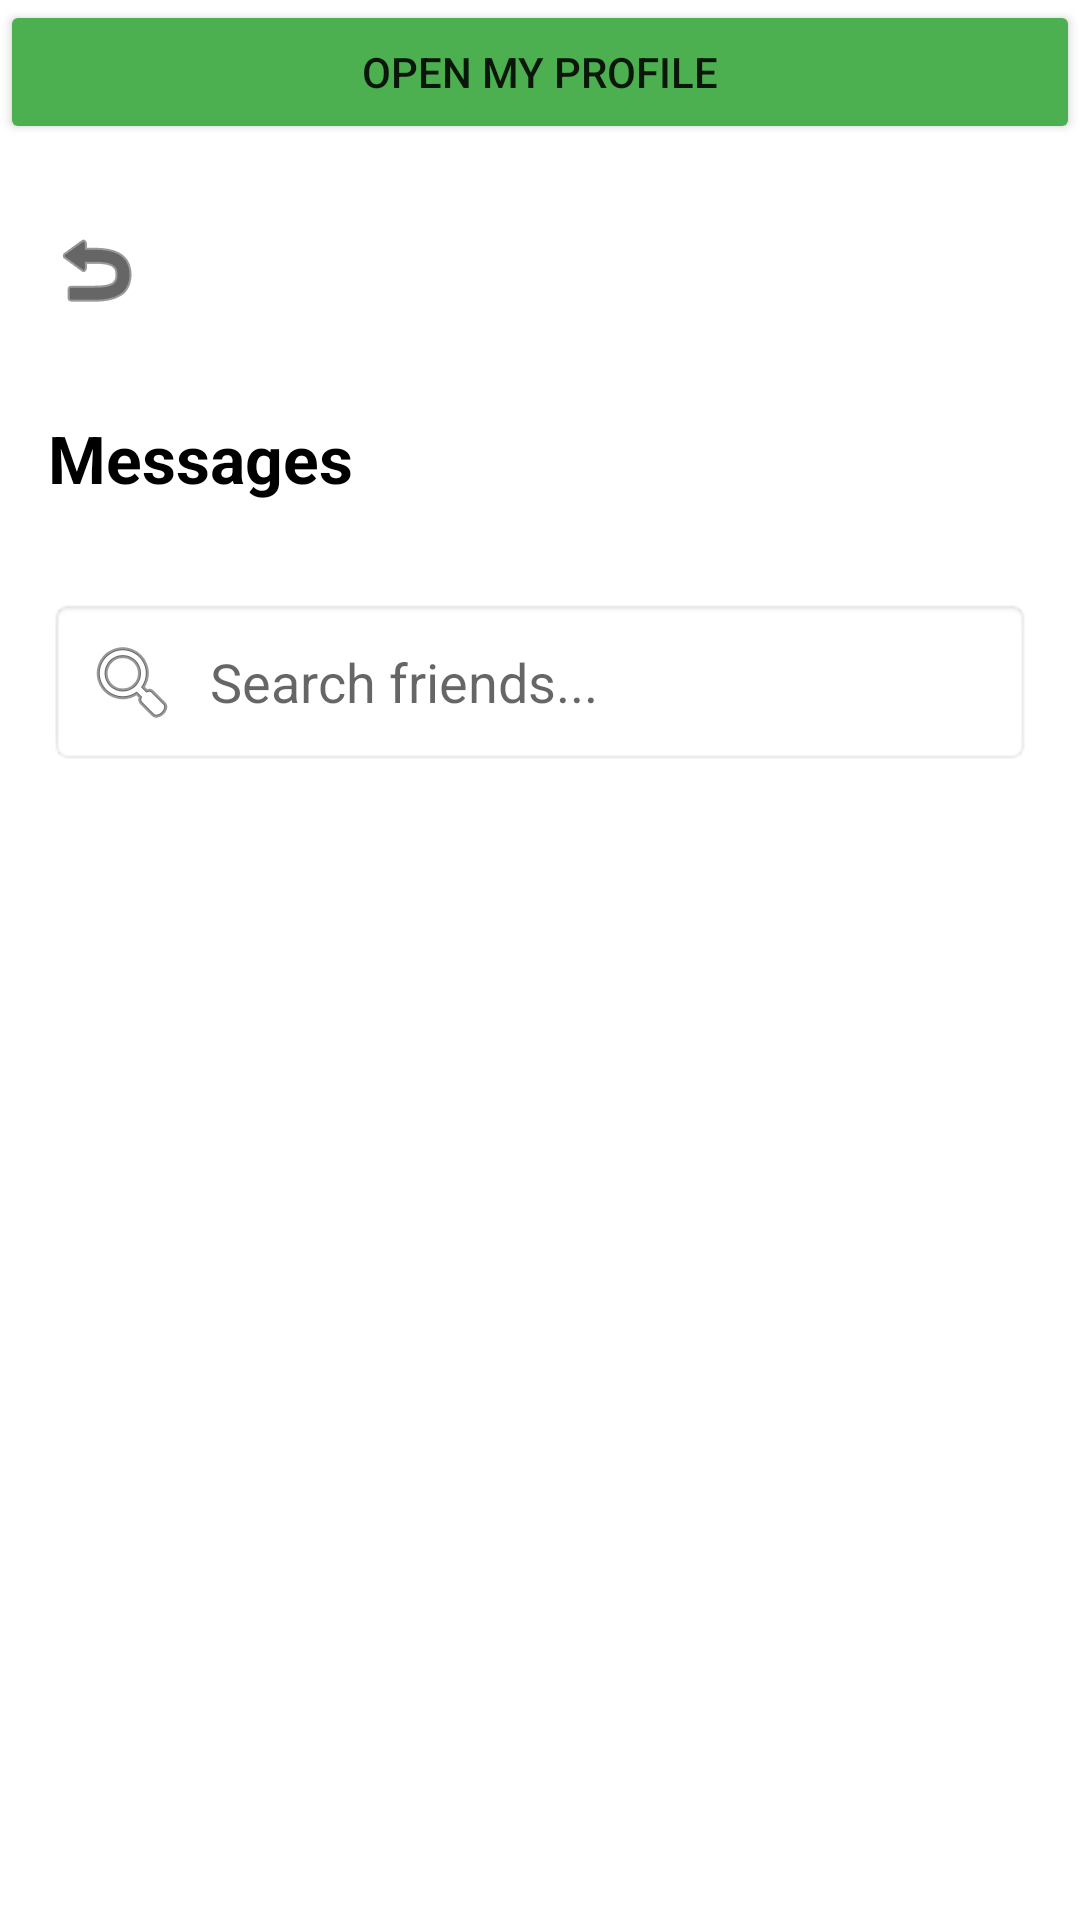

Screen size 1080w x 1920h. Icon name, then its box in pixels as (x1, y1, x2, y2):
Back: (63, 239, 132, 302)
